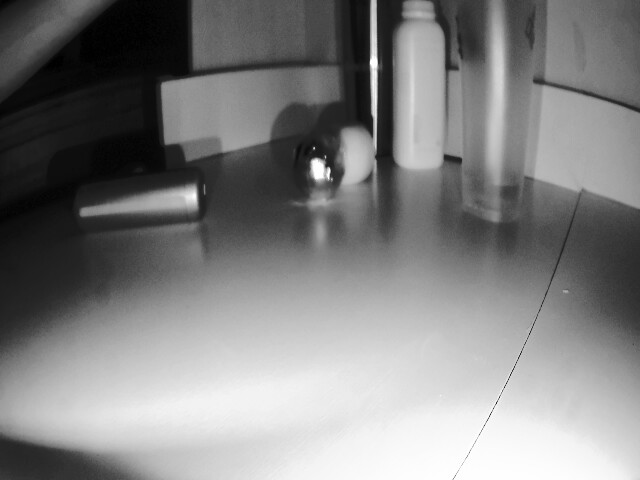black: (299, 138, 341, 202)
